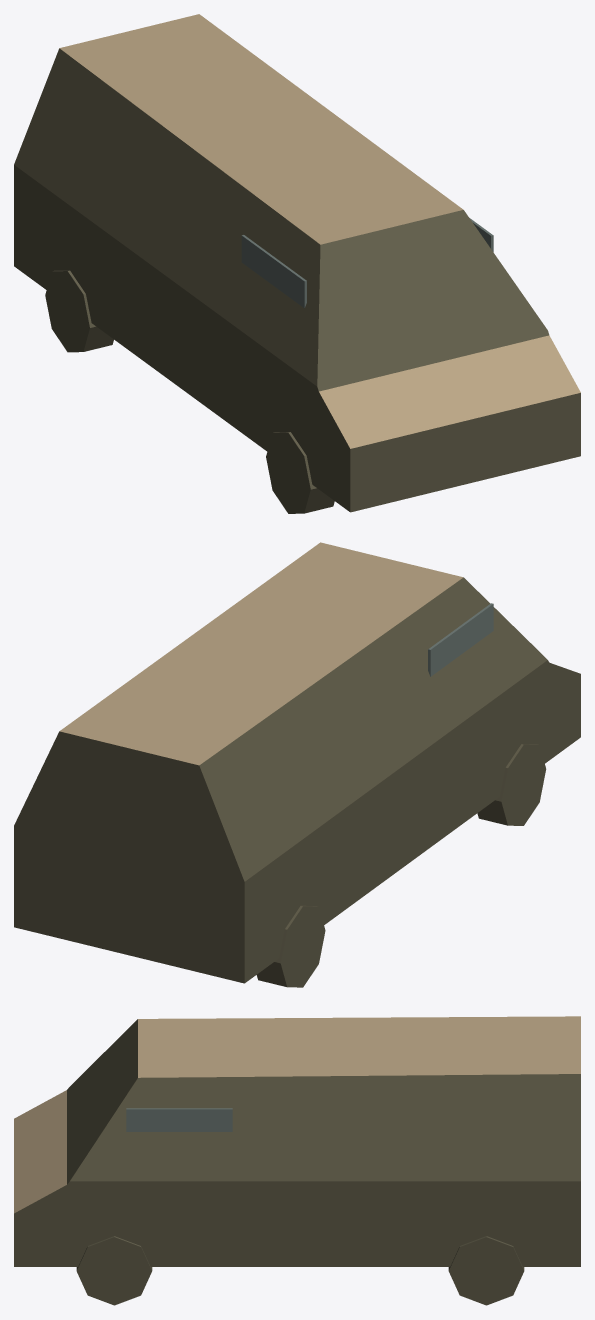
Rendered from SM_CocheCivil_Furgoneta_v0_LOD1.fbx.
3 views of the same model, one above another, from view 1: azimuth 30°, elevation 25°; view 2: azimuth 150°, elevation 25°; view 3: azimuth 270°, elevation 25° (orthographic). The views are drawn at different scales.
Parts seen in each view (by area): view 1: SM_coche_civil_v10_LOD1; view 2: SM_coche_civil_v10_LOD1; view 3: SM_coche_civil_v10_LOD1.
Part boxes in pixels (bbox=[...]): SM_coche_civil_v10_LOD1: bbox=[14, 14, 580, 513]; SM_coche_civil_v10_LOD1: bbox=[14, 542, 580, 987]; SM_coche_civil_v10_LOD1: bbox=[14, 1016, 580, 1305].
Bounding box in the file's own units: 1.94 × 1.98 × 4.8.
